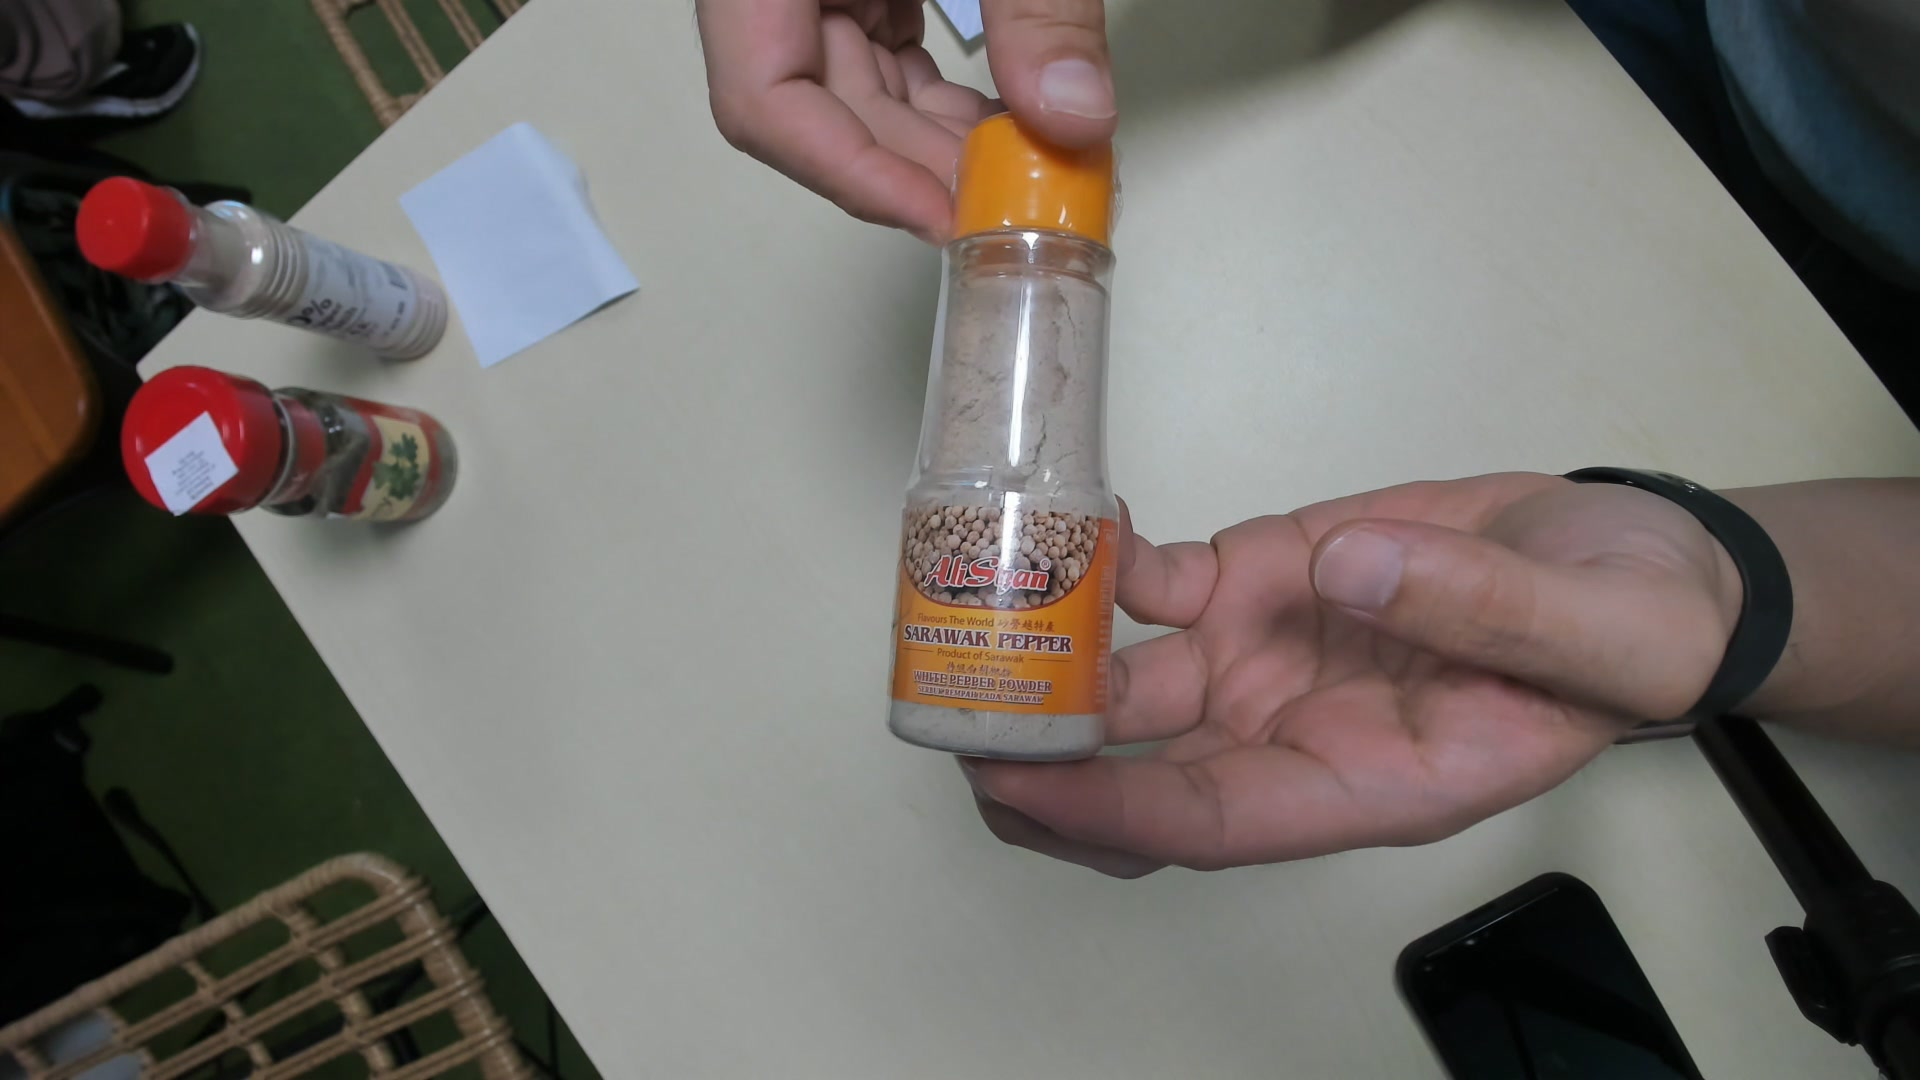HerbsSpicesPepper_400-499g_Halal_NonHealthy: (880, 108, 1109, 764)
